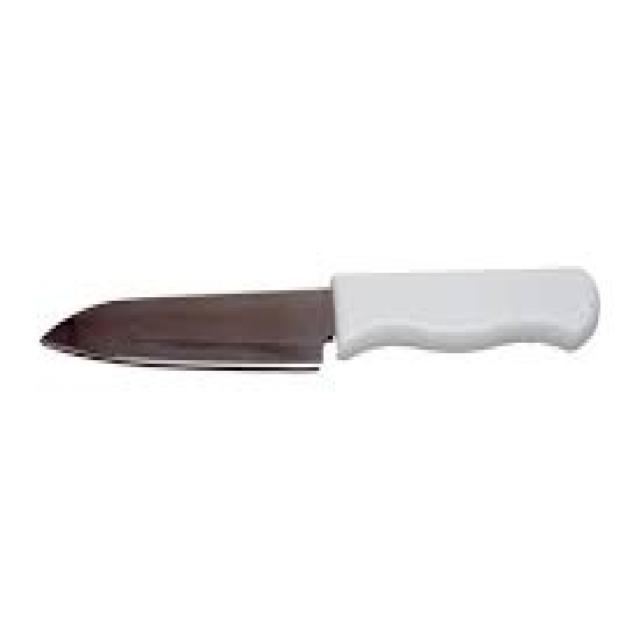Knife: (38, 262, 600, 371)
